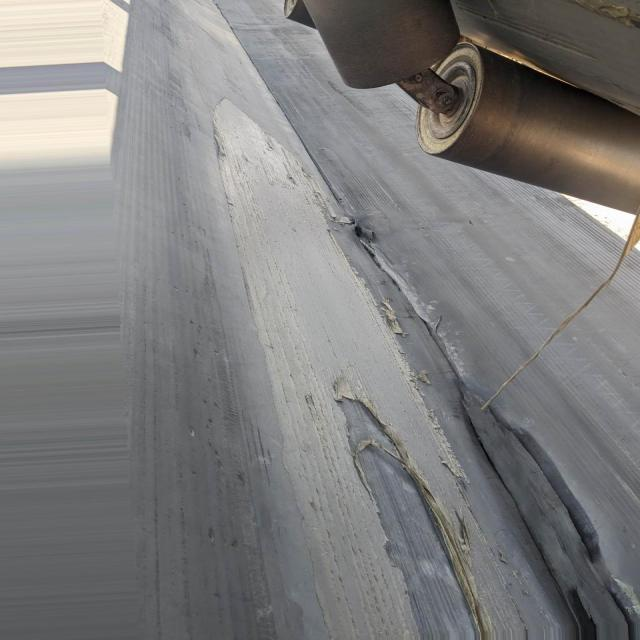Roller: (418, 45, 640, 215), (309, 0, 462, 87)
Tear: (331, 220, 579, 632), (338, 397, 485, 640)
